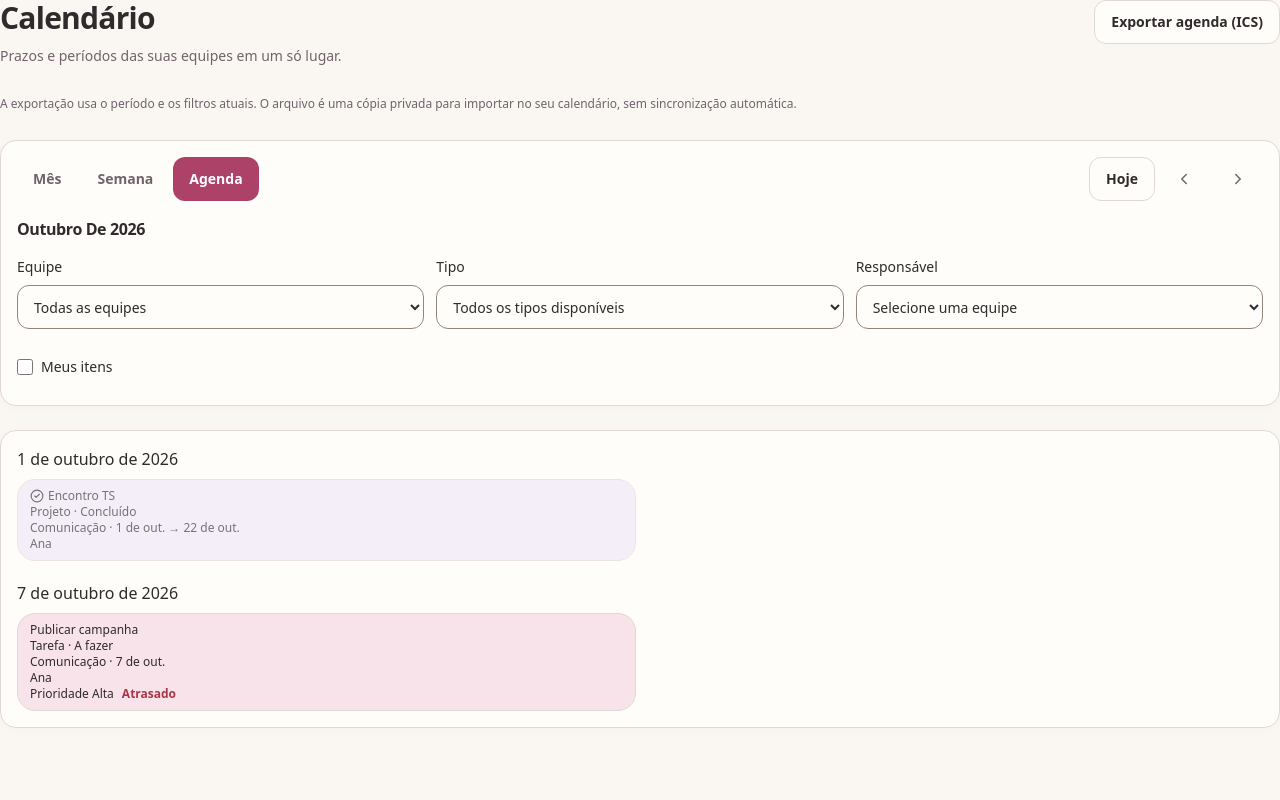
Test: falha de exportação não cria arquivo nem repete envio
Expected: the button with aria-label "Abrir tarefa Publicar campanha" is shown, left=17, top=613, right=636, bottom=711
What coordinates should you click on to do the following:
click the button "Exportar agenda (ICS)"
I would click on:
 (1187, 22)
Its box is left=1094, top=0, right=1279, bottom=44.
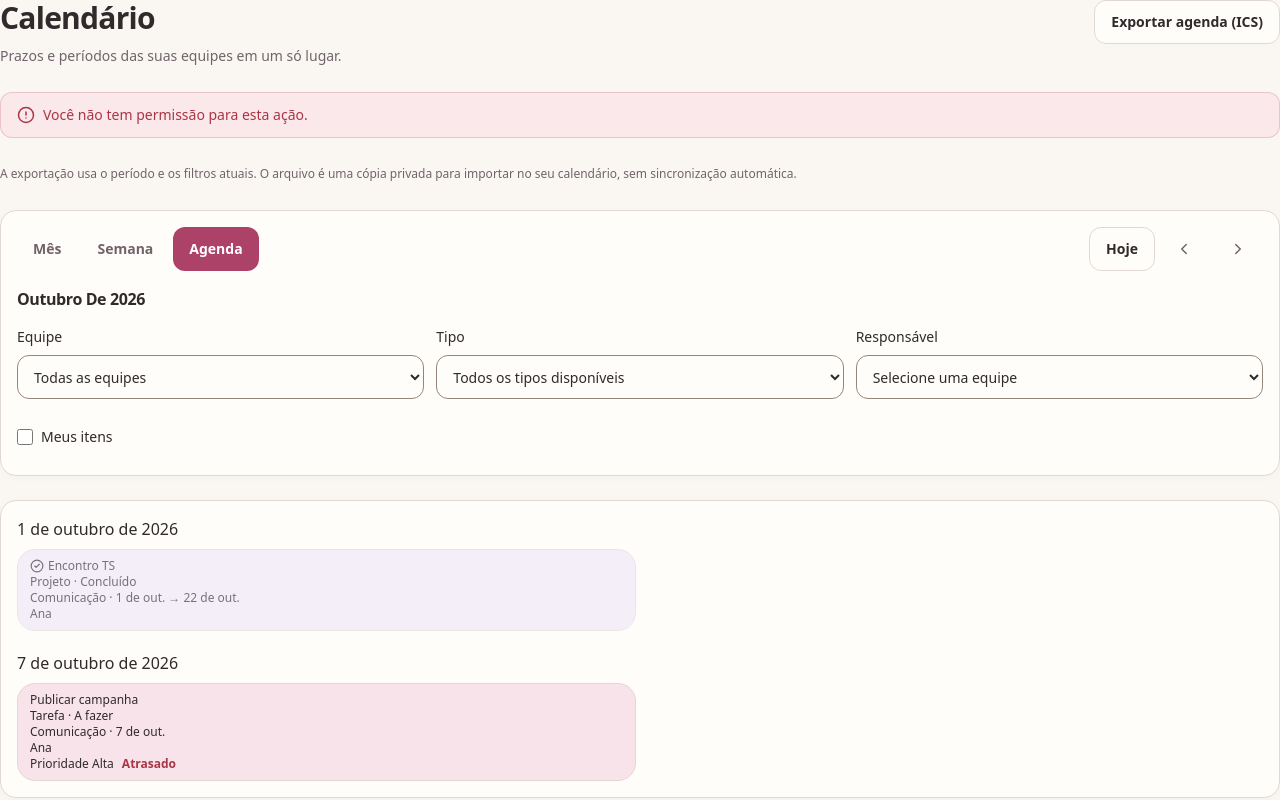
Result: the text "Você não tem permissão para esta ação." is shown at left=17, top=105, right=308, bottom=124
